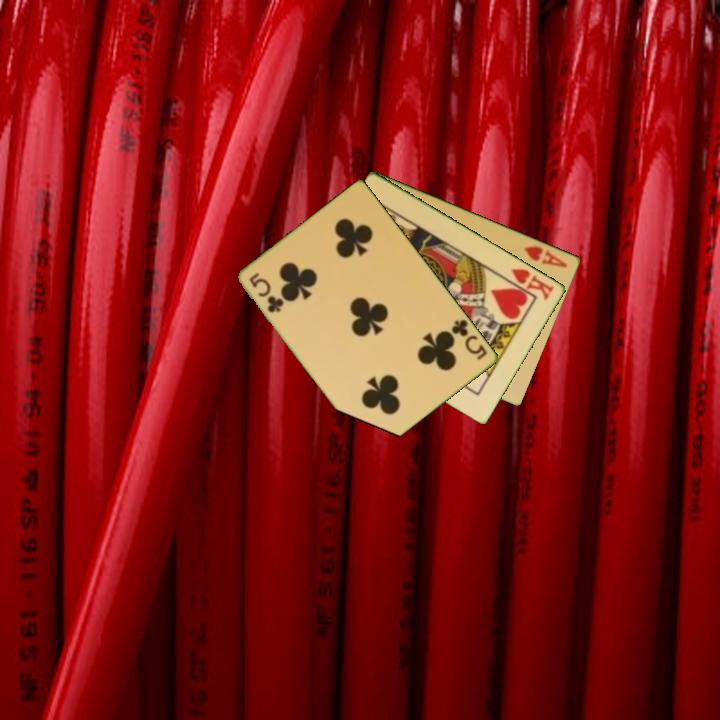5c: (448, 316, 490, 363), (246, 269, 287, 316)
Ah: (520, 242, 571, 271)
Kh: (501, 264, 557, 303)
